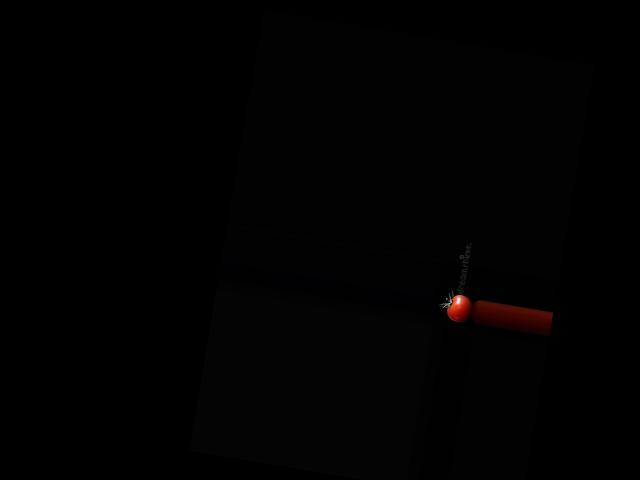tomato: (445, 292, 473, 323)
